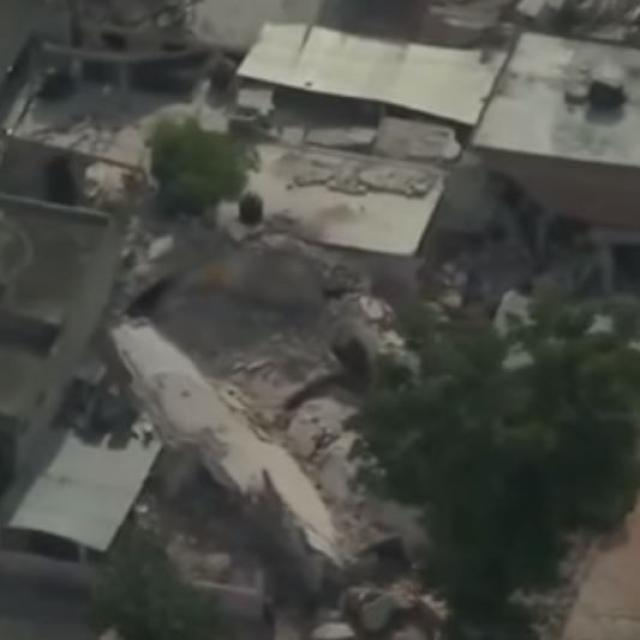collapsed_building: (146, 224, 450, 595)
